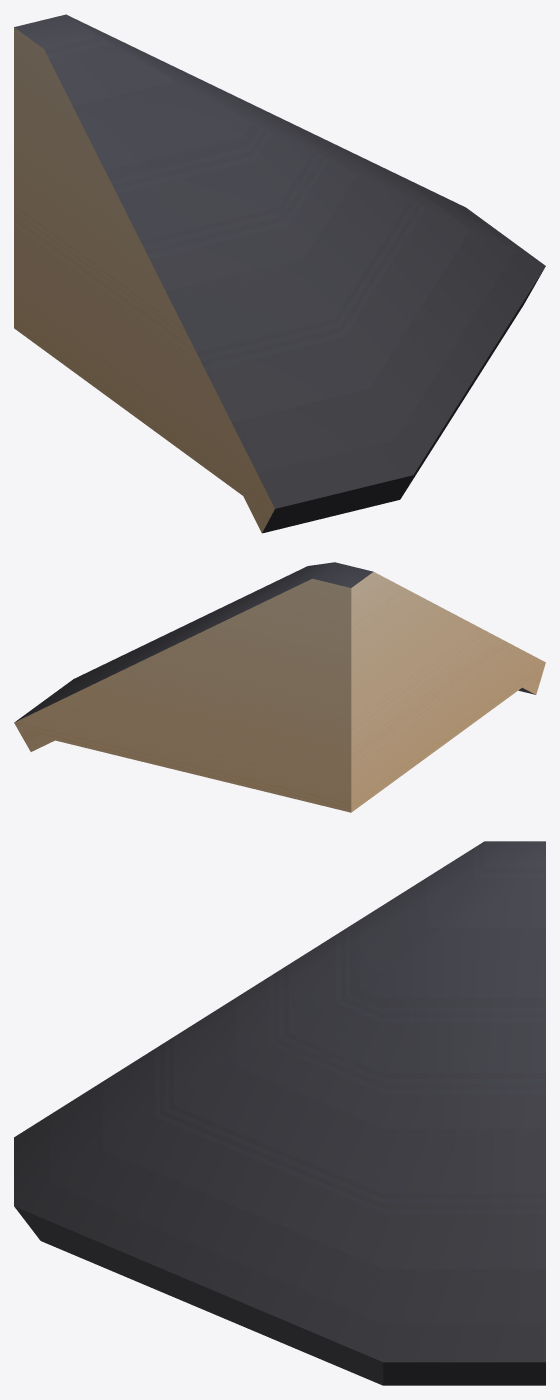
The picture shows the model from 3 angles, top to bottom: view 1: azimuth 30°, elevation 25°; view 2: azimuth 150°, elevation 25°; view 3: azimuth 270°, elevation 25°; orthographic projection. The views are drawn at different scales.
Parts seen in each view (by area): view 1: roof-slanted-corner-a; view 2: roof-slanted-corner-a; view 3: roof-slanted-corner-a.
Boxes of the visible parts, bbox=[...] form: roof-slanted-corner-a: bbox=[14, 14, 545, 533]; roof-slanted-corner-a: bbox=[14, 562, 545, 812]; roof-slanted-corner-a: bbox=[14, 841, 545, 1385].
Bounding box in the file's own units: 1.14 × 0.782 × 1.14.
Materials: 1 (1 with a texture image).
